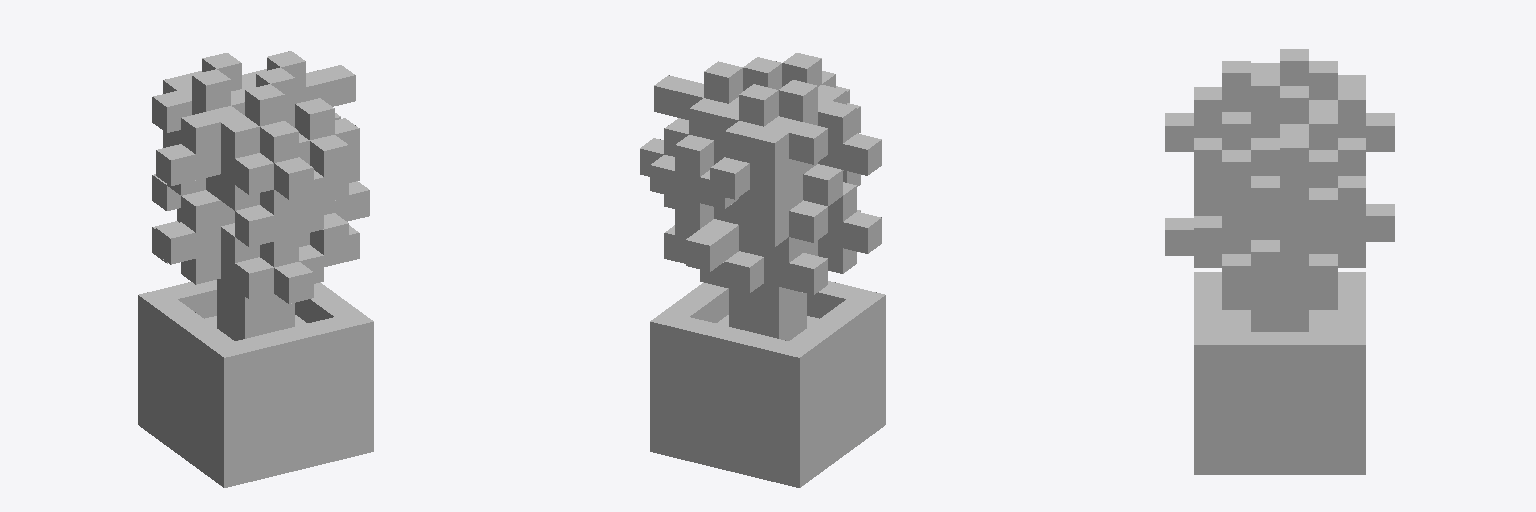
The model's file is red_fruit_plant.obj.
3 renders of one model, left to right at view 1: azimuth 30°, elevation 25°; view 2: azimuth 150°, elevation 25°; view 3: azimuth 270°, elevation 25°, orthographic.
Parts seen in each view (by area): view 1: Plant 1; view 2: Plant 1; view 3: Plant 1.
Part boxes in pixels (x1,y1,x2,y2): Plant 1: (138,51,373,487); Plant 1: (640,53,885,487); Plant 1: (1165,49,1394,474).
Size of the model in its own units: 16 by 28 by 16.